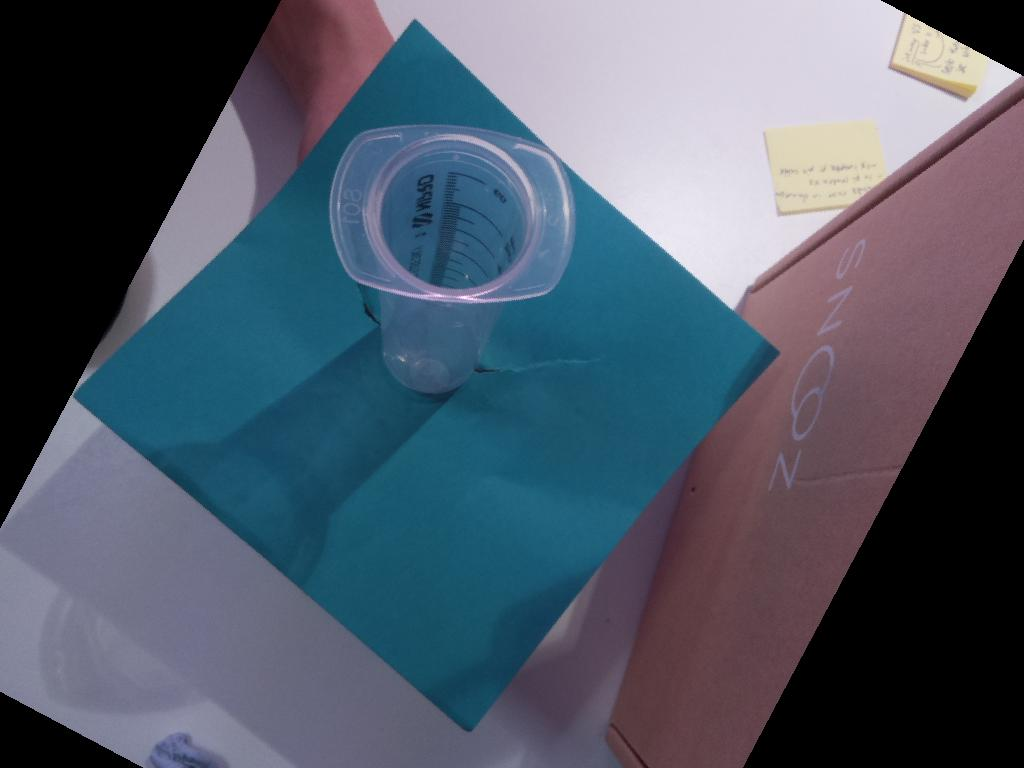clean: (330, 121, 577, 304)
